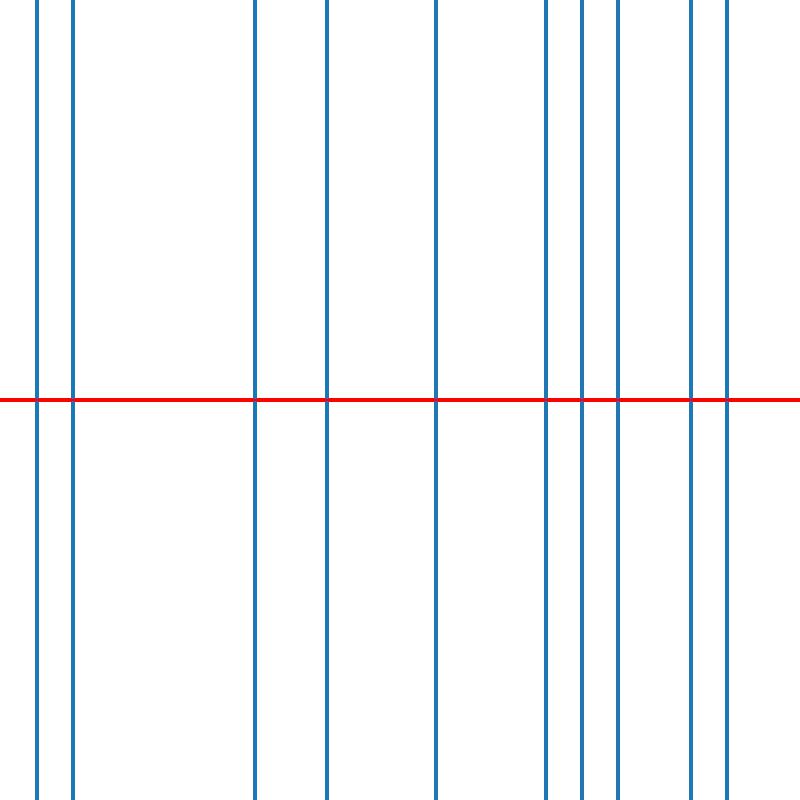root: (250, 396, 258, 404), (432, 396, 440, 404), (541, 396, 549, 404), (32, 396, 40, 404), (687, 396, 694, 404), (614, 396, 621, 404), (323, 396, 330, 404), (69, 396, 76, 404), (723, 396, 730, 404), (578, 396, 585, 404)
